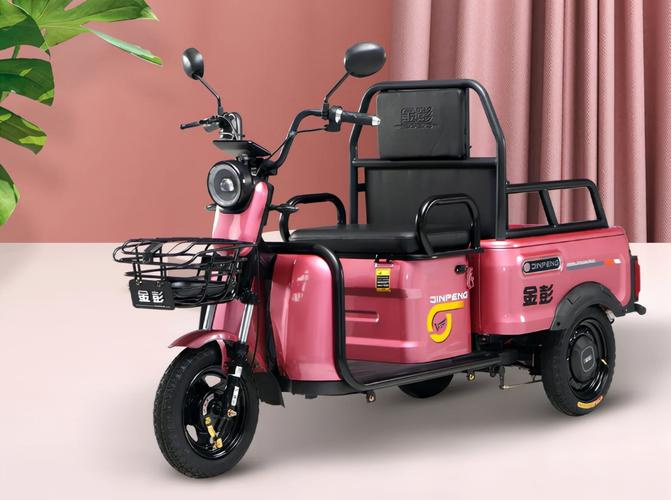empty: (52, 10, 665, 464)
